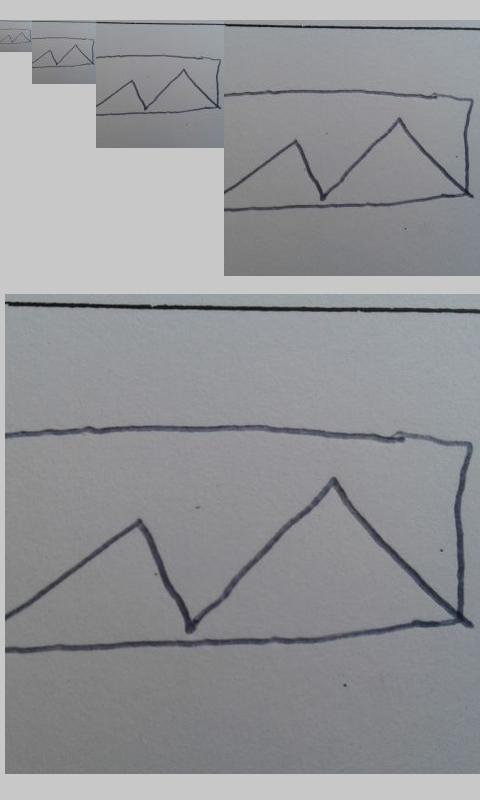image_view: (9, 424, 474, 655), (225, 86, 474, 211), (96, 54, 222, 116), (32, 37, 94, 69), (1, 28, 32, 45)
